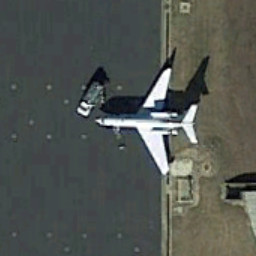Airplane: (83, 59, 221, 178)
